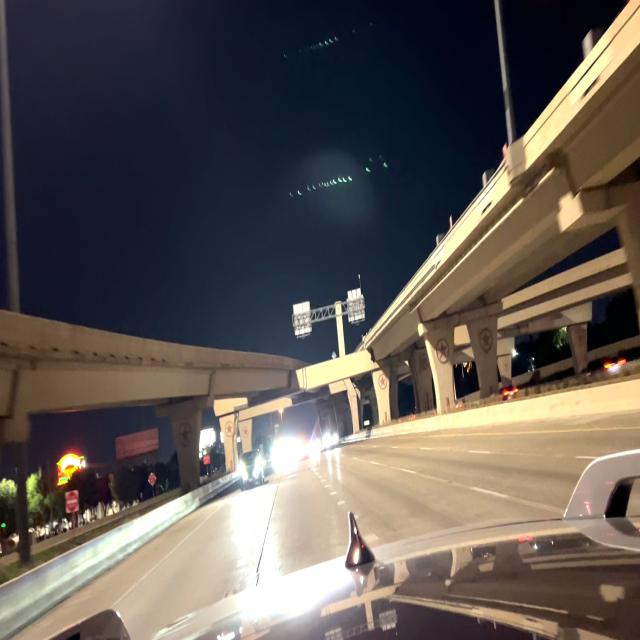back-of-sign: (292, 301, 311, 338), (347, 286, 364, 323)
